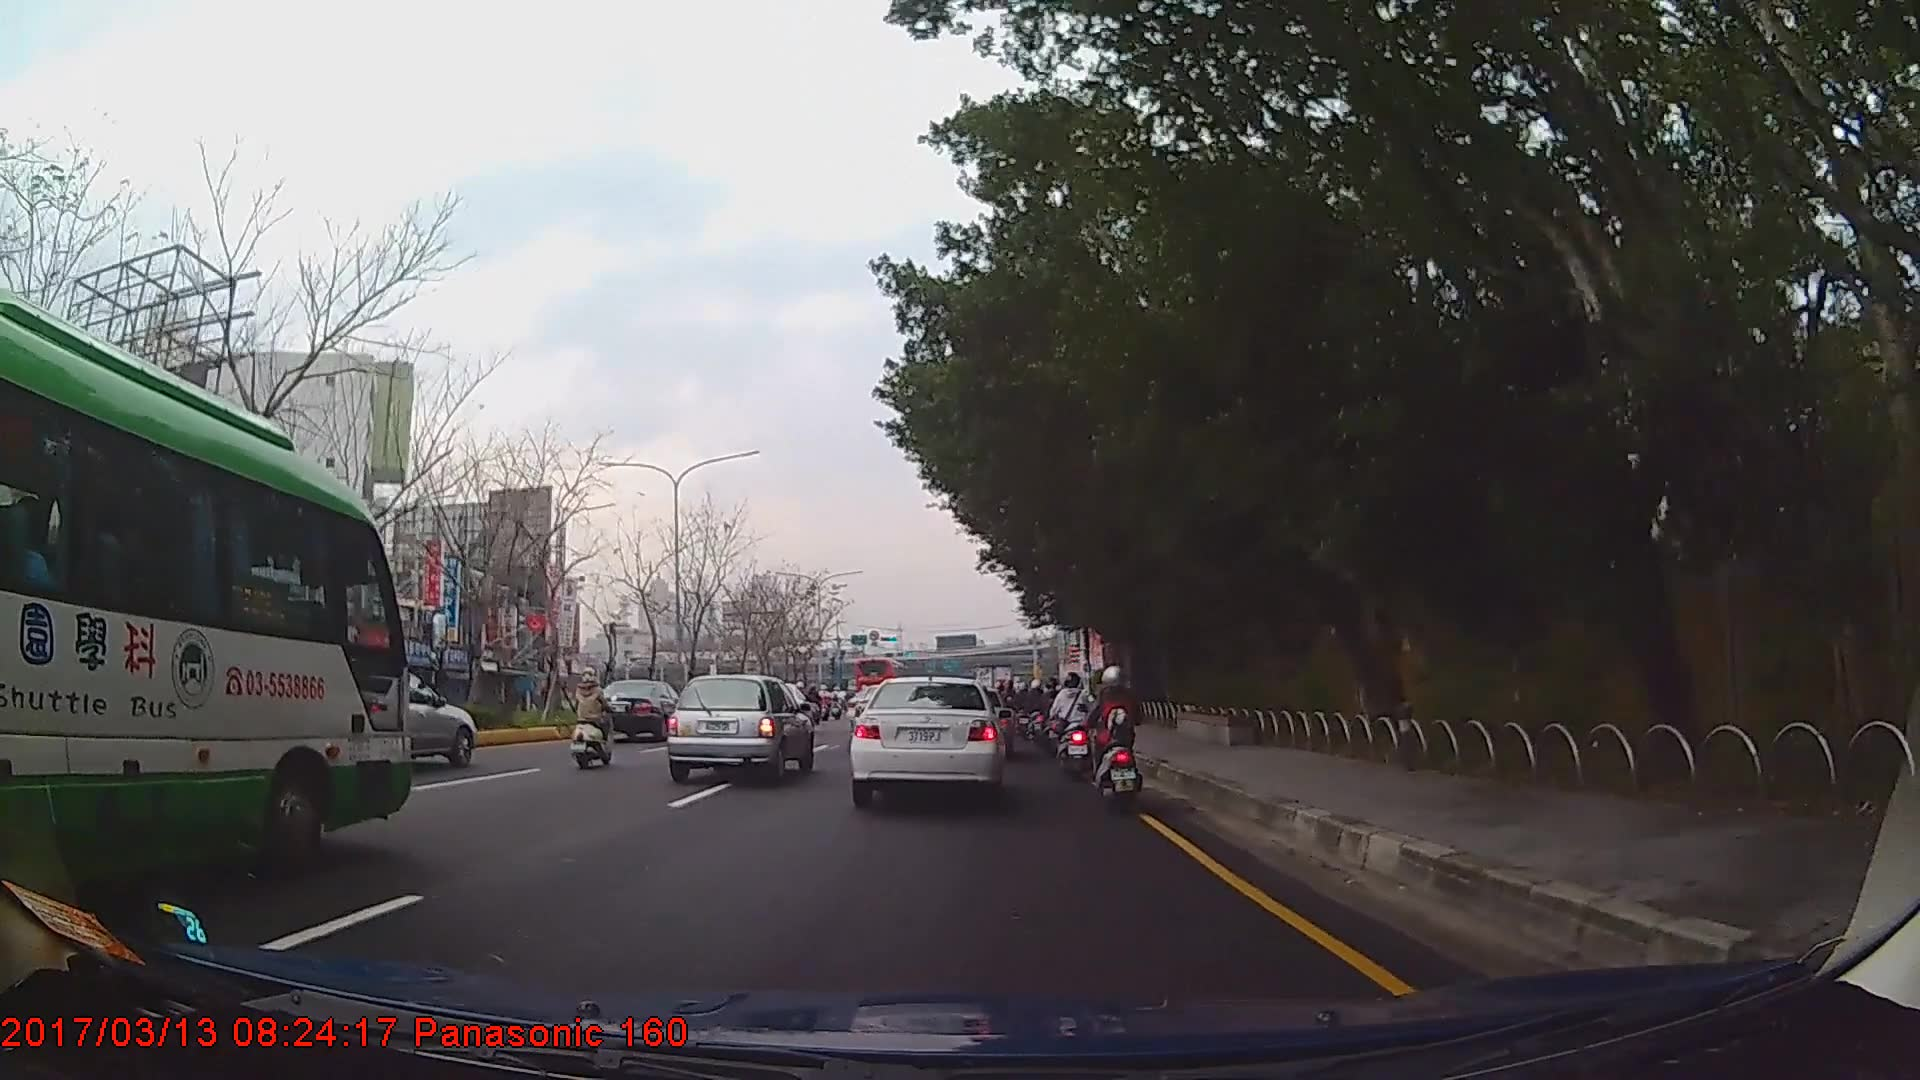rider: (1086, 660, 1149, 814), (1054, 673, 1097, 782), (573, 671, 616, 771), (1042, 678, 1065, 751)
vehicle: (0, 290, 414, 902), (846, 677, 1006, 808), (668, 673, 816, 785), (344, 672, 475, 768), (587, 678, 690, 743), (853, 653, 906, 703)
